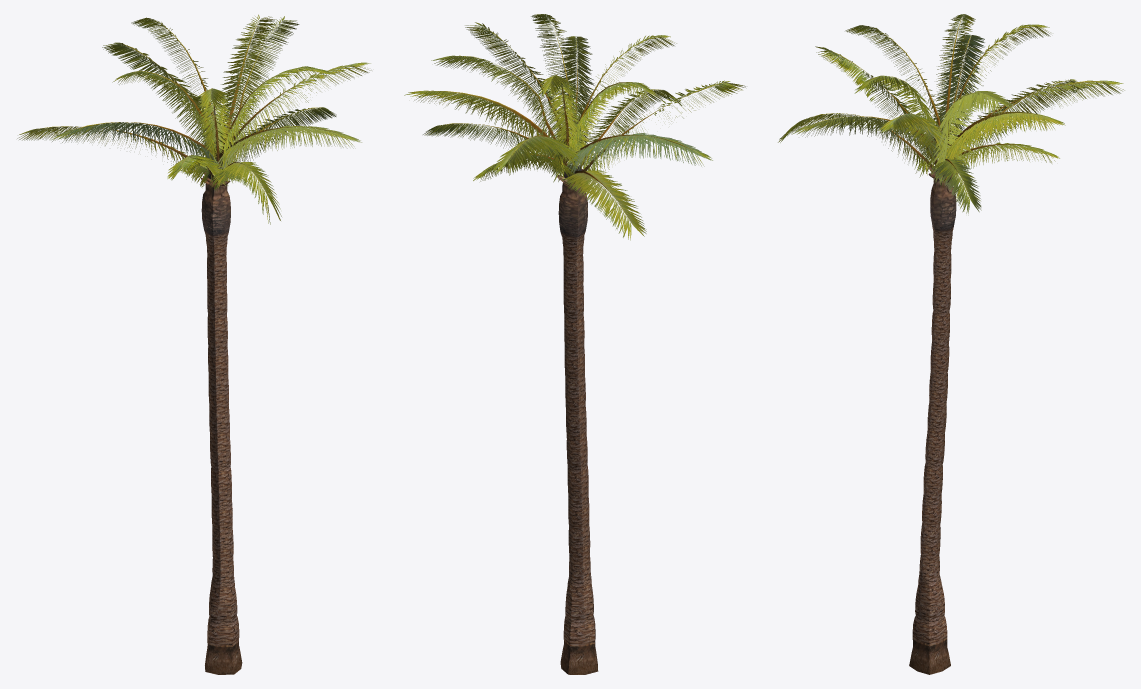
The model's file is palm_tree_498.glb.
The picture shows the model from 3 angles, left to right: view 1: azimuth 30°, elevation 25°; view 2: azimuth 150°, elevation 25°; view 3: azimuth 270°, elevation 25°; orthographic projection.
Parts seen in each view (by area): view 1: Object_2, Object_4; view 2: Object_2, Object_4; view 3: Object_2, Object_4.
Part boxes in pixels (x1=…): Object_2: x1=17, y1=14, x2=371, y2=224; Object_4: x1=201, y1=166, x2=242, y2=674; Object_2: x1=404, y1=14, x2=745, y2=240; Object_4: x1=558, y1=165, x2=598, y2=674; Object_2: x1=778, y1=14, x2=1124, y2=215; Object_4: x1=909, y1=170, x2=956, y2=674.
Bounding box in the file's own units: 574 × 1200 × 604.
3 materials, 3 textured.
